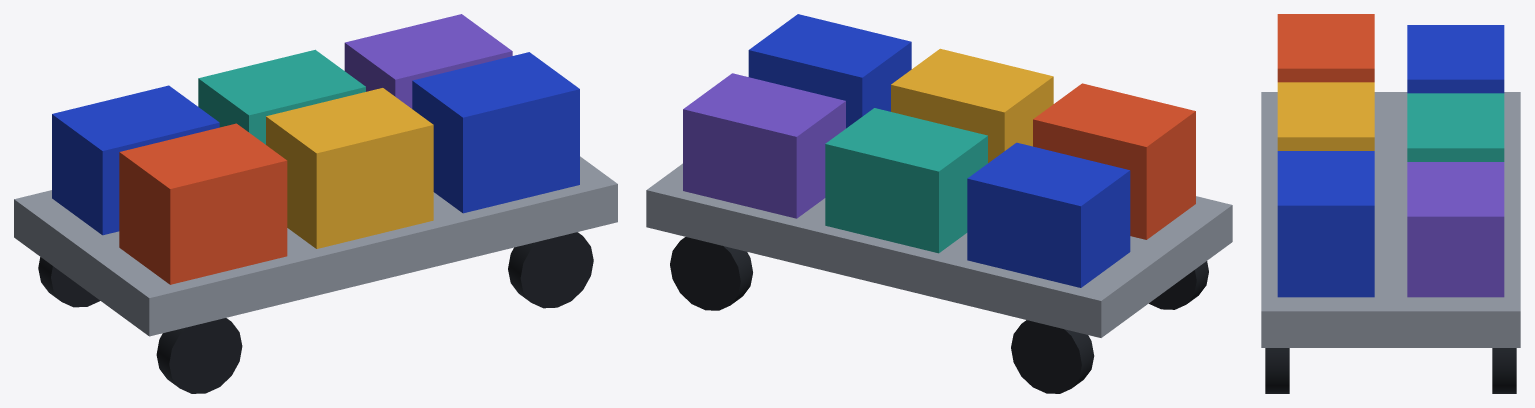
The model's file is baggage-cart.glb.
3 views of the same model, side by side, from view 1: azimuth 30°, elevation 25°; view 2: azimuth 150°, elevation 25°; view 3: azimuth 270°, elevation 25° (orthographic). The views are drawn at different scales.
Parts seen in each view (by area): view 1: Bag (×6), Bed, Wheel (×3); view 2: Bag (×6), Bed, Wheel (×3); view 3: Bag (×6), Bed, Wheel (×2).
Boxes of the visible parts, x1,y1,x2,y2 form: Bag (×6): (52, 14, 579, 284); Bed: (14, 156, 617, 336); Wheel (×3): (38, 232, 593, 393); Bag (×6): (683, 14, 1195, 287); Bed: (646, 163, 1232, 337); Wheel (×3): (670, 237, 1208, 393); Bag (×6): (1277, 14, 1504, 297); Bed: (1261, 92, 1520, 347); Wheel (×2): (1265, 348, 1516, 393).
Size of the model in its own units: 3.2 by 1.35 by 1.6.
